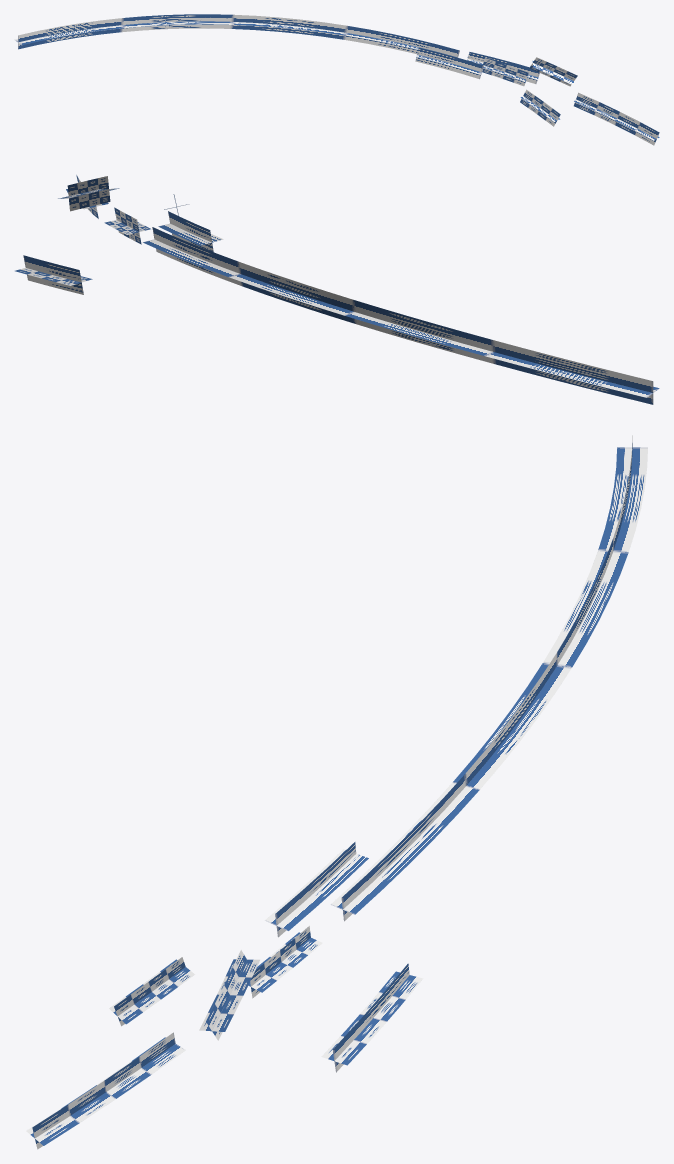
File: Spark1.fbx
3 views of the same model, one above another, from view 1: azimuth 30°, elevation 25°; view 2: azimuth 150°, elevation 25°; view 3: azimuth 270°, elevation 25° (orthographic). The views are drawn at different scales.
Visible parts, largest first — view 1: SM_e_Useful_Spark001; view 2: SM_e_Useful_Spark001; view 3: SM_e_Useful_Spark001.
Boxes of the visible parts, <box> form: SM_e_Useful_Spark001: <box>14,14,659,145</box>; SM_e_Useful_Spark001: <box>15,175,659,404</box>; SM_e_Useful_Spark001: <box>26,435,647,1149</box>.
Bounding box in the file's own units: 257 × 59.56 × 140.
